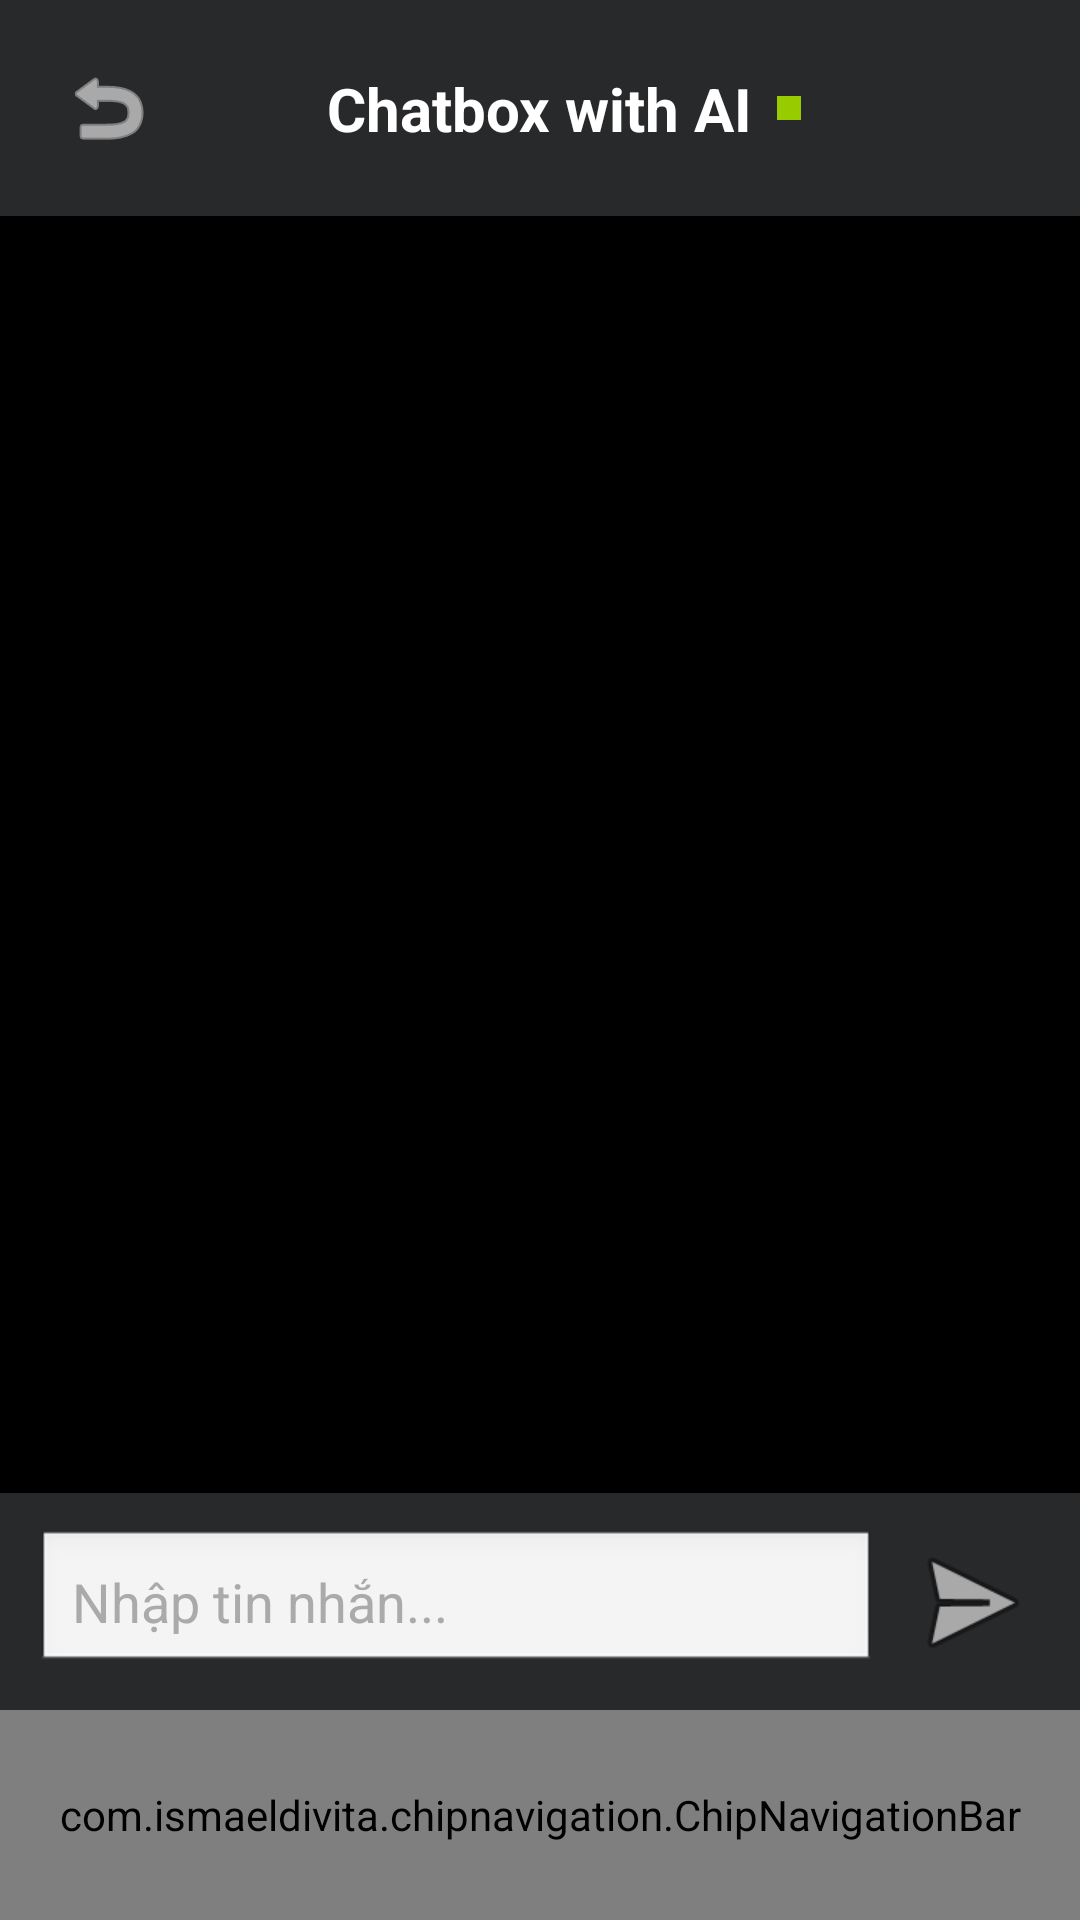

Icons on this 1080*1920 Android screen, each with the point to tap as (x,y):
Back: (109,108)
Send message: (973,1603)
